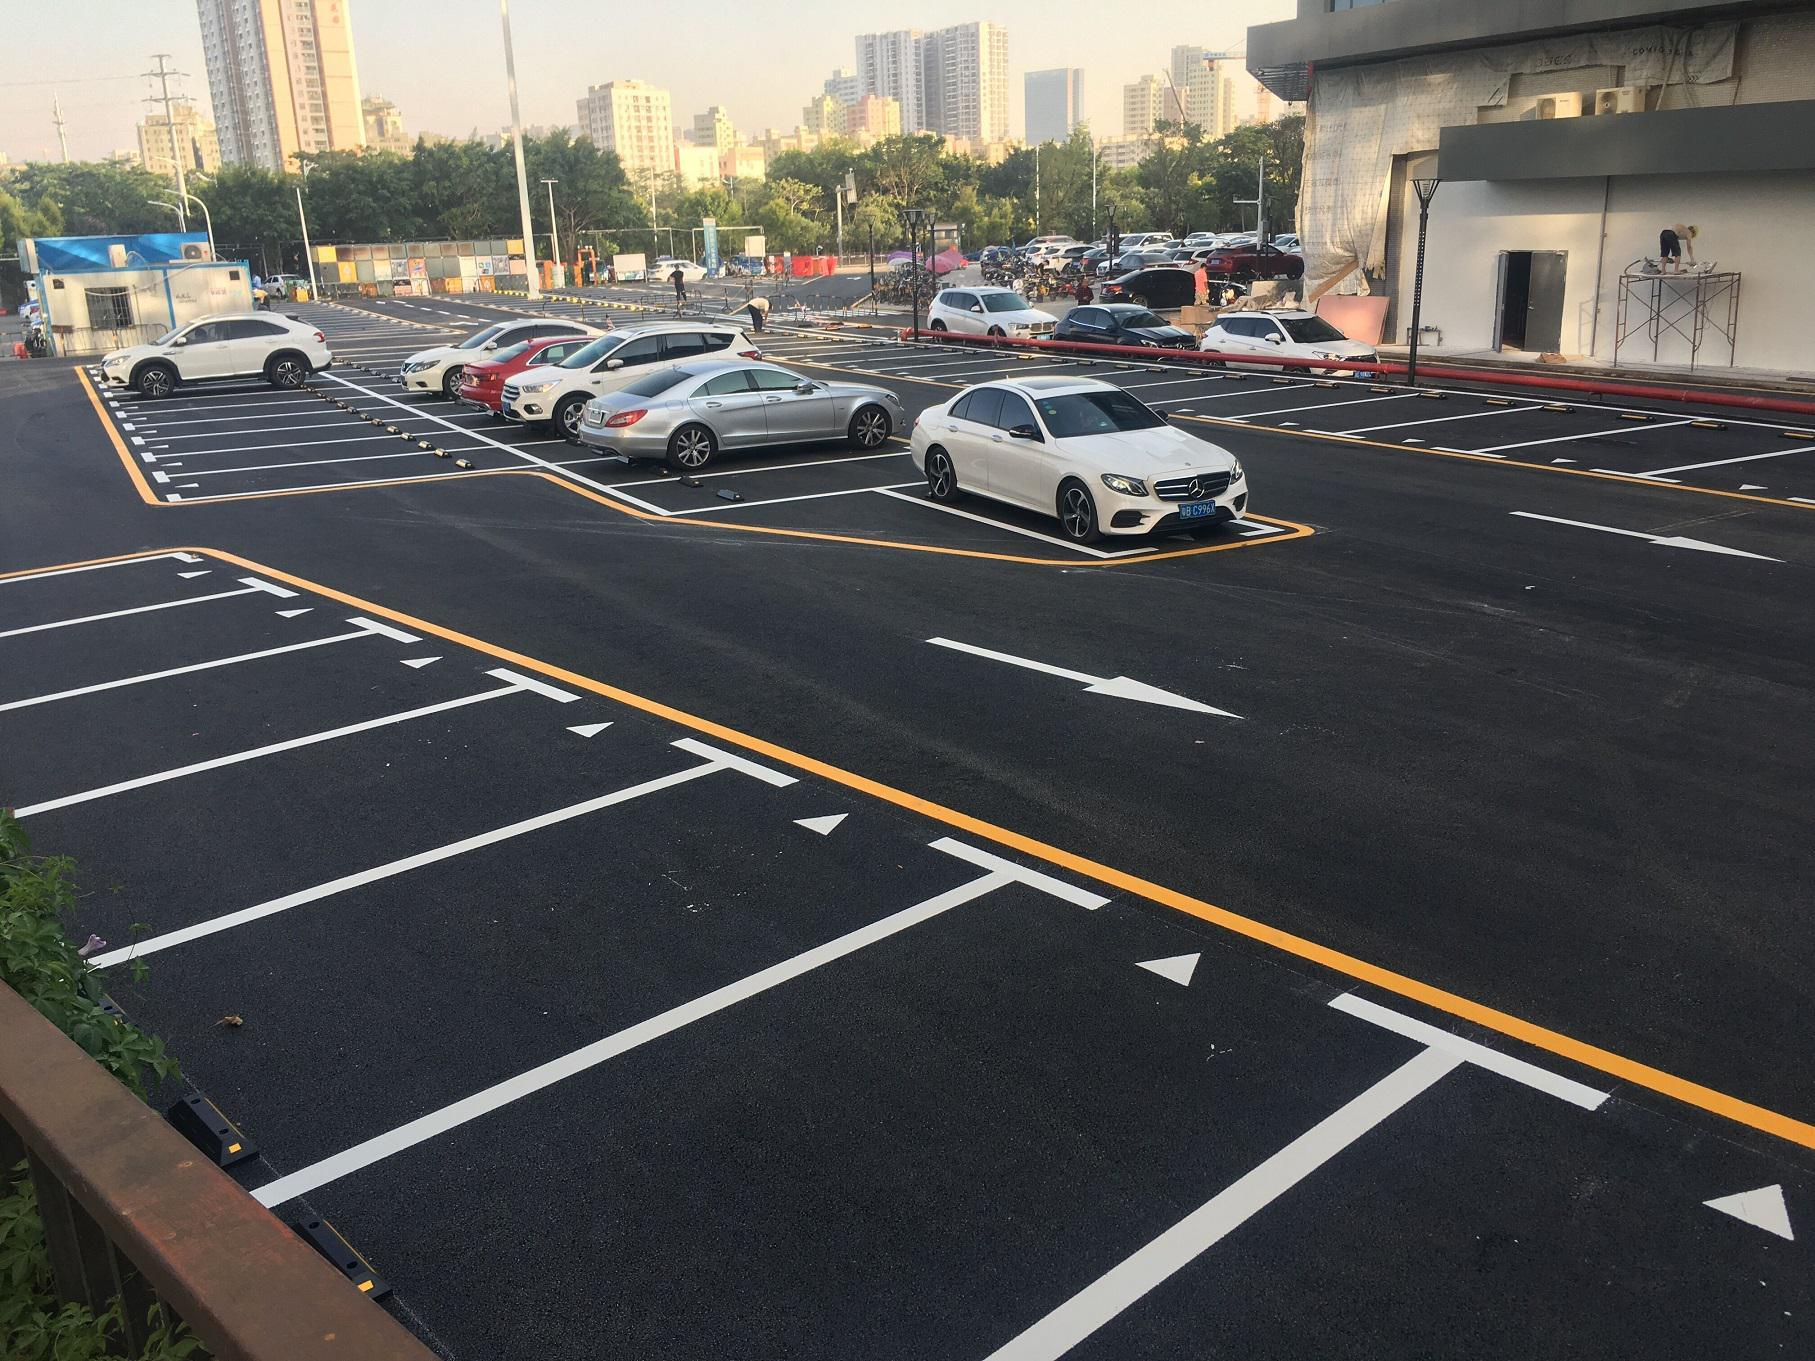empty: (310, 882, 1415, 1357), (63, 771, 983, 1188), (0, 695, 705, 962), (4, 638, 506, 811), (4, 589, 359, 695), (603, 452, 928, 515), (167, 447, 536, 496), (1, 559, 247, 630), (1488, 422, 1808, 470), (1352, 405, 1684, 450), (157, 427, 489, 470), (1242, 392, 1536, 430), (146, 419, 456, 452), (1146, 380, 1415, 417)
occupied: (887, 463, 1265, 549), (563, 419, 916, 483), (386, 370, 573, 400), (109, 376, 343, 399), (443, 397, 639, 425)
